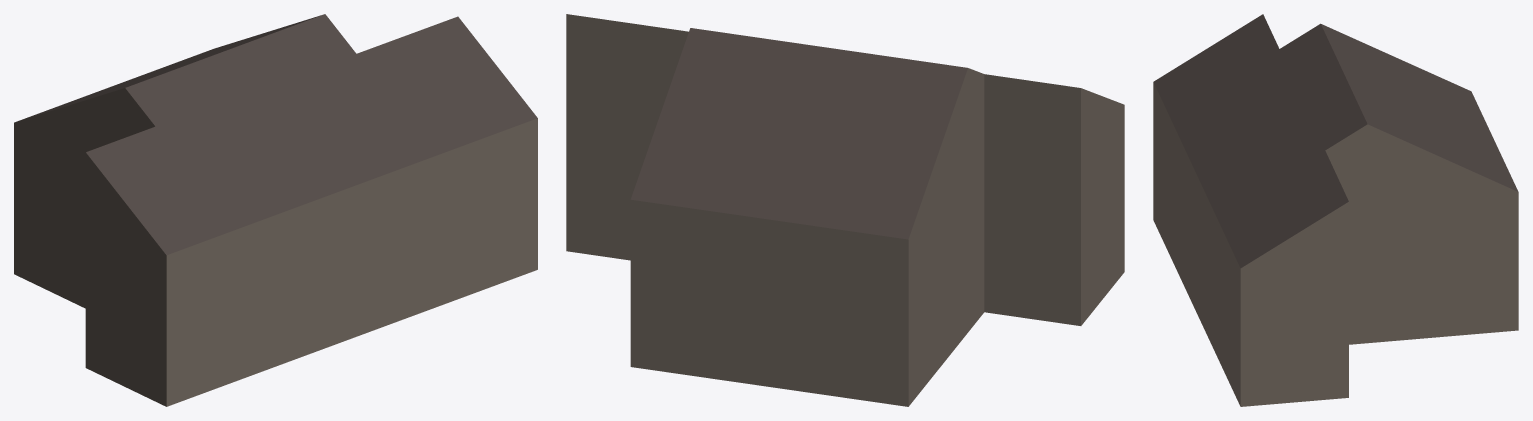
3 views of the same model, side by side, from view 1: azimuth 30°, elevation 25°; view 2: azimuth 150°, elevation 25°; view 3: azimuth 270°, elevation 25° (orthographic). The views are drawn at different scales.
Parts seen in each view (by area): view 1: HP-w1376988828; view 2: HP-w1376988828; view 3: HP-w1376988828.
Boxes of the visible parts, x1,y1,x2,y2 form: HP-w1376988828: (14,14,537,406); HP-w1376988828: (566,14,1124,406); HP-w1376988828: (1153,14,1518,406).
Bounding box in the file's own units: 18.22 × 9.49 × 14.35.
